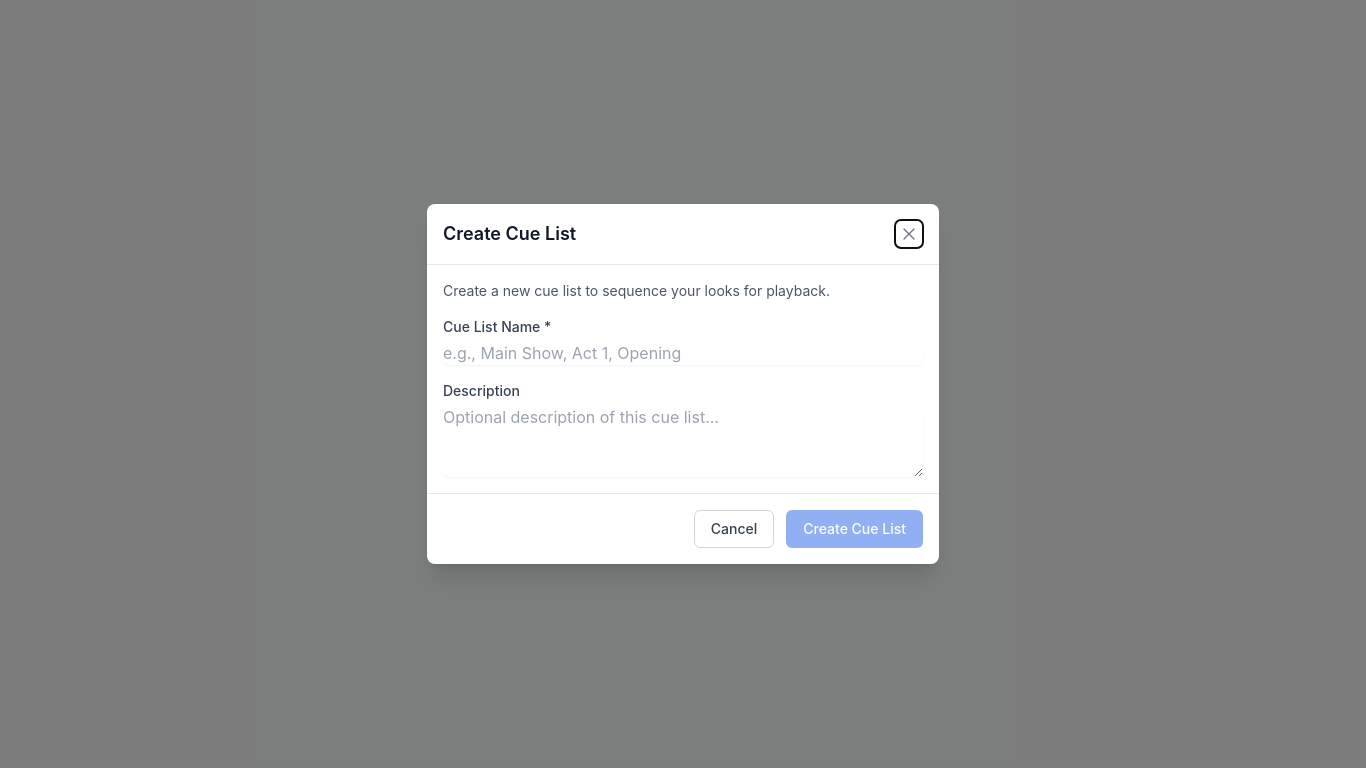
CreateCueListModal › form submission › enables submit button when name is provided
The width and height of the screenshot is (1366, 768).
Type "Test" into the field labelled "Cue List Name *". click: coordinates (683, 353)
box: 443,341 -> 923,365
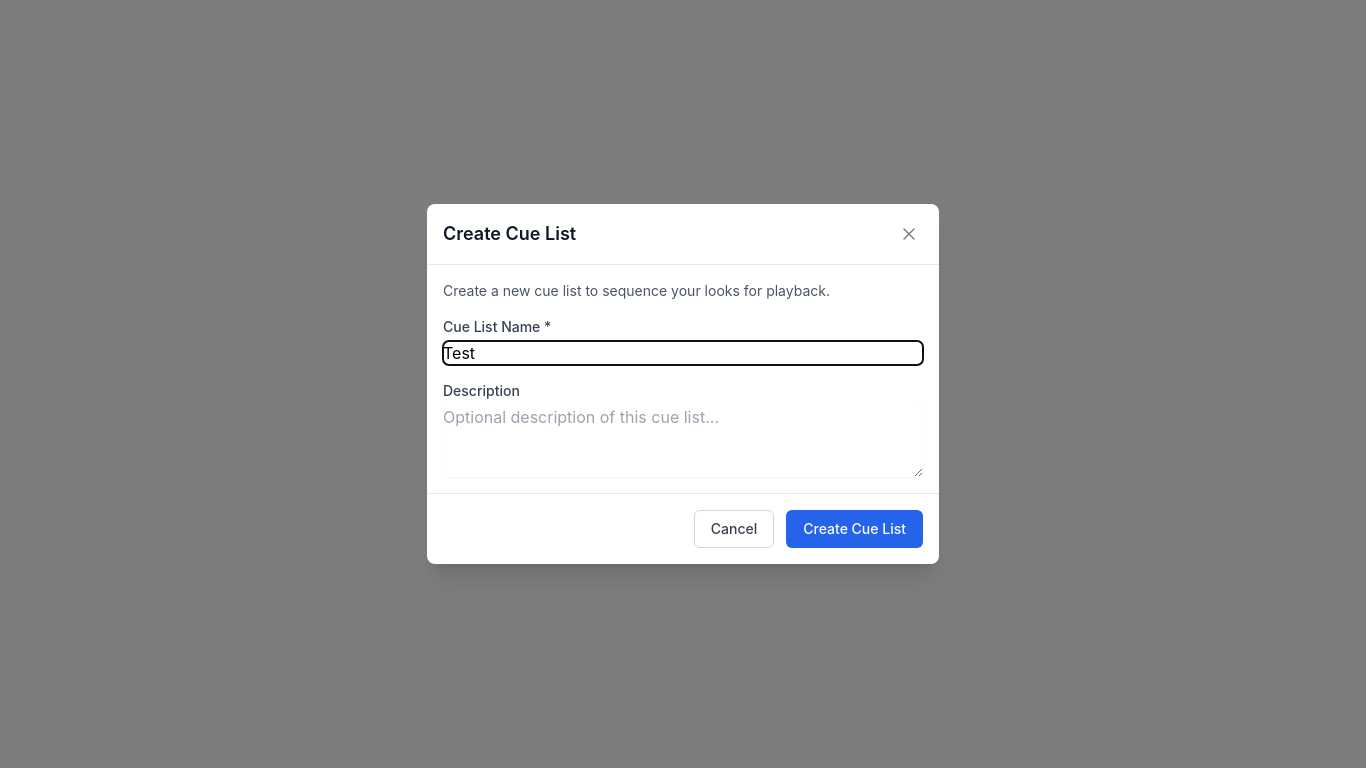
Result: the button "Create Cue List" is enabled at 786,510 -> 923,548
